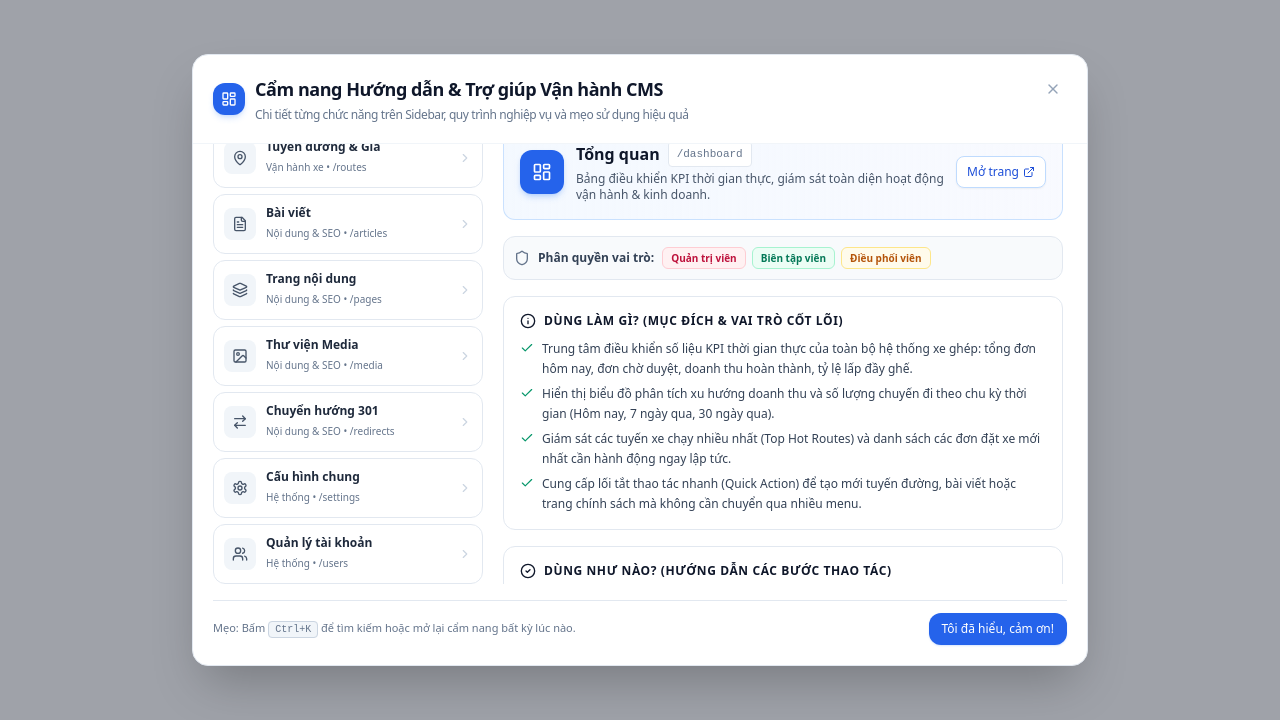
Test: QuickHelpModal Component & Sidebar Guides › chuyển đổi xem chi tiết chức năng Chuyển hướng 301
(page scrolled)
Click the button "Chuyển hướng 301 Nội dung & SEO • /redirects" at (348, 422), box top-left (213, 392), bottom-right (483, 452)
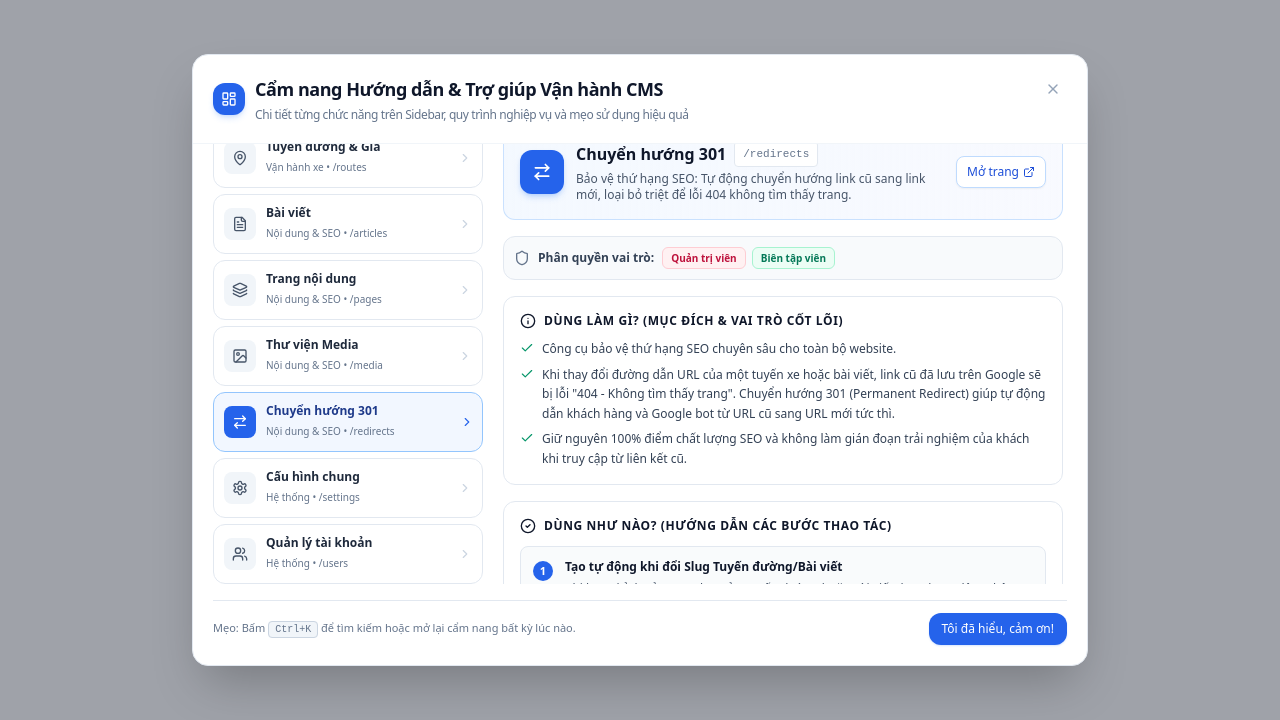
Check: the heading "Tạo tự động khi đổi Slug Tuyến đường/Bài viết" is shown, box top-left (565, 558), bottom-right (843, 575)
Check: the text "Công cụ bảo vệ thứ hạng SEO chuyên sâu cho toàn bộ website." is shown, box top-left (542, 339), bottom-right (896, 358)
